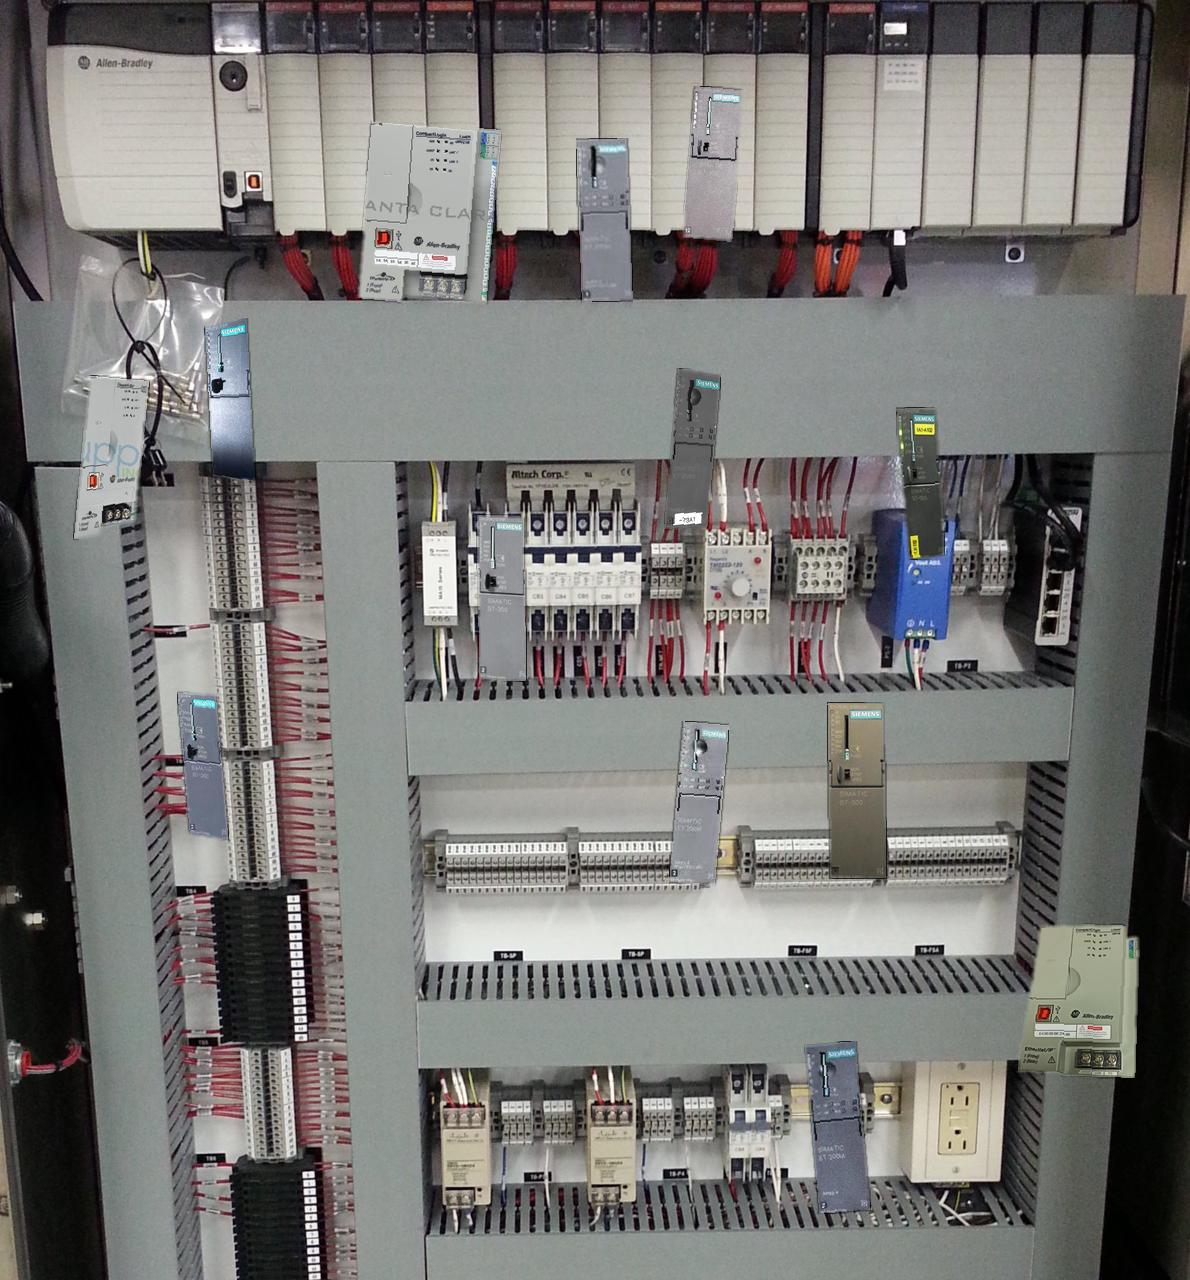AllenBradley: (358, 122, 499, 302), (1018, 925, 1139, 1077), (74, 376, 148, 538)
Siemens: (827, 703, 886, 878), (683, 86, 742, 240), (205, 317, 254, 480), (478, 515, 525, 680), (178, 693, 227, 838), (896, 408, 943, 558)
